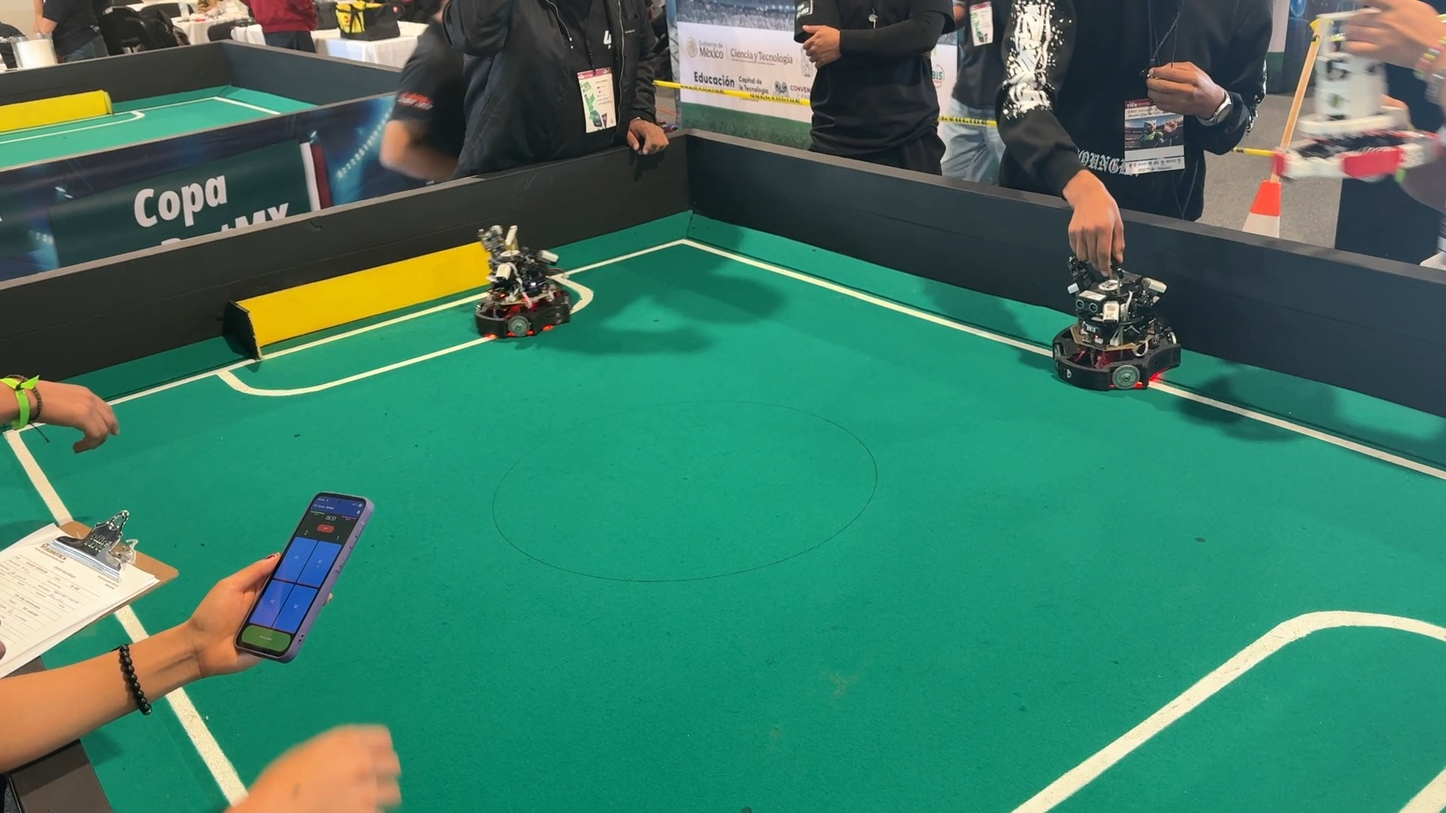Robot: (1023, 237, 1202, 401), (457, 218, 599, 358)
